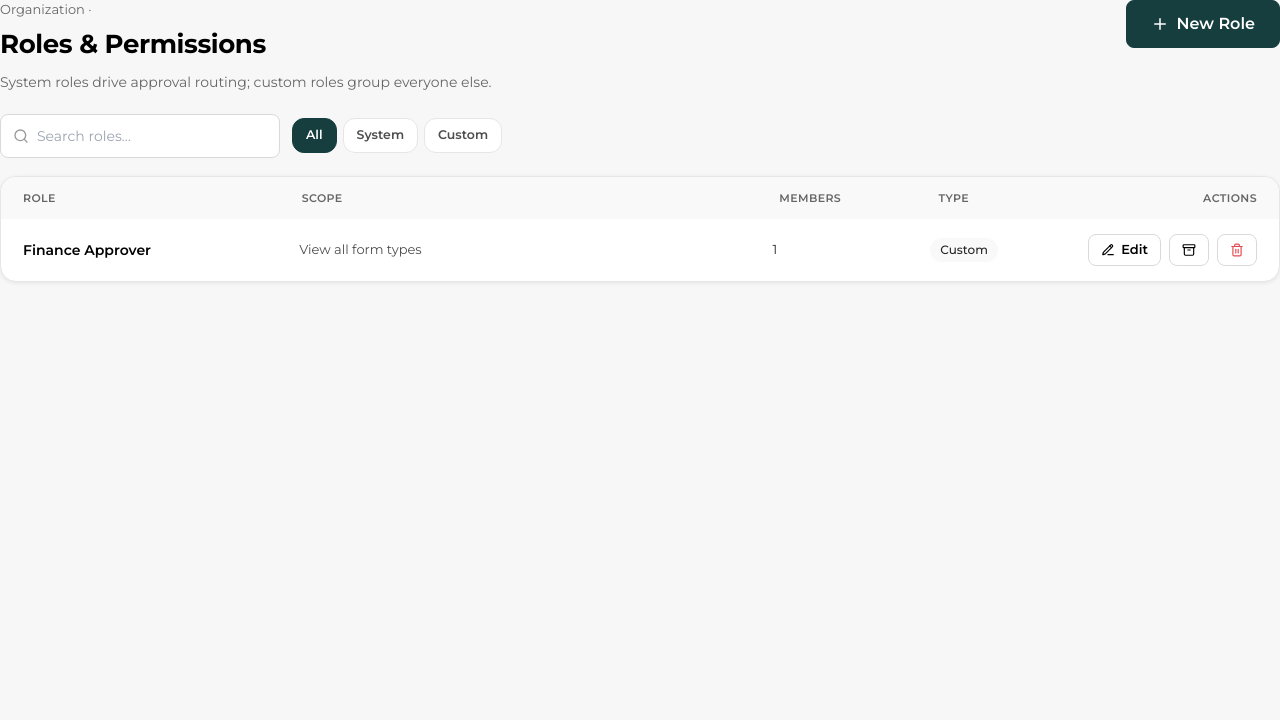
deleting a role still in use surfaces the reason and keeps the dialog open
Expected: the text "Finance Approver" is shown, [23,241,151,259]
Click the button named "Delete Finance Approver": (1237,250) [1217,234,1257,266]
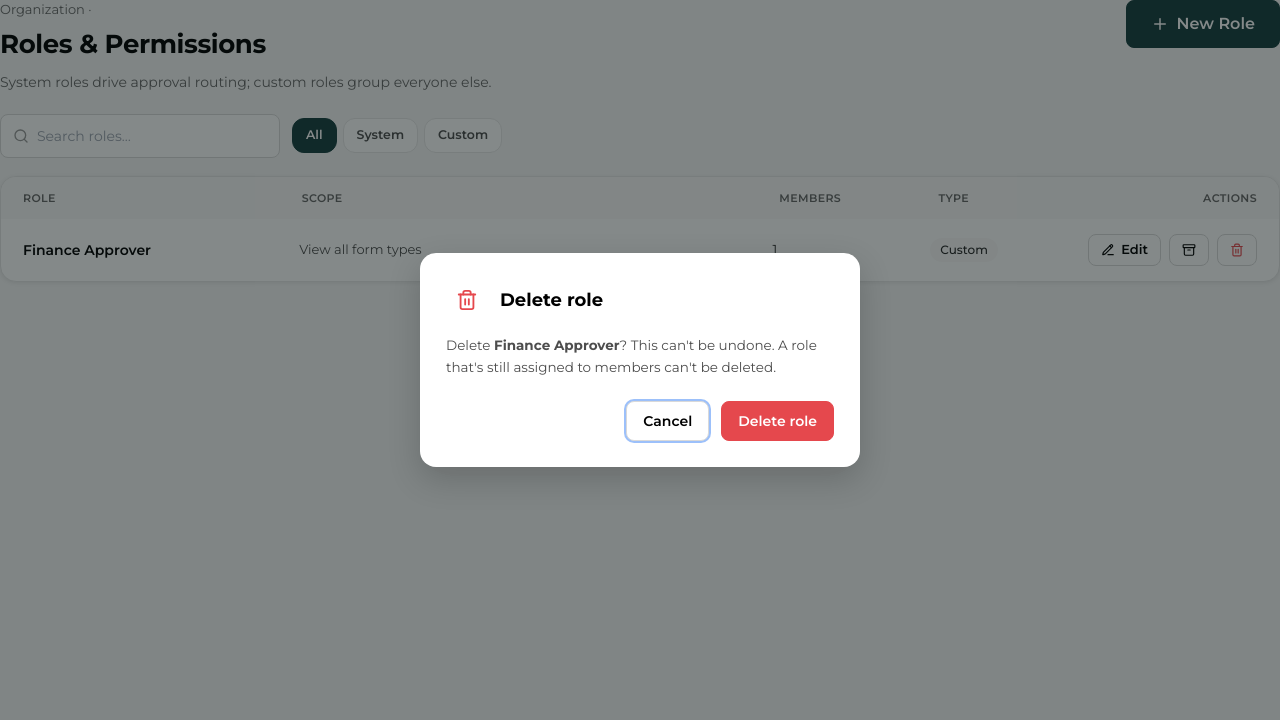
Click the button "Delete role": (778,421) [721,401,834,441]
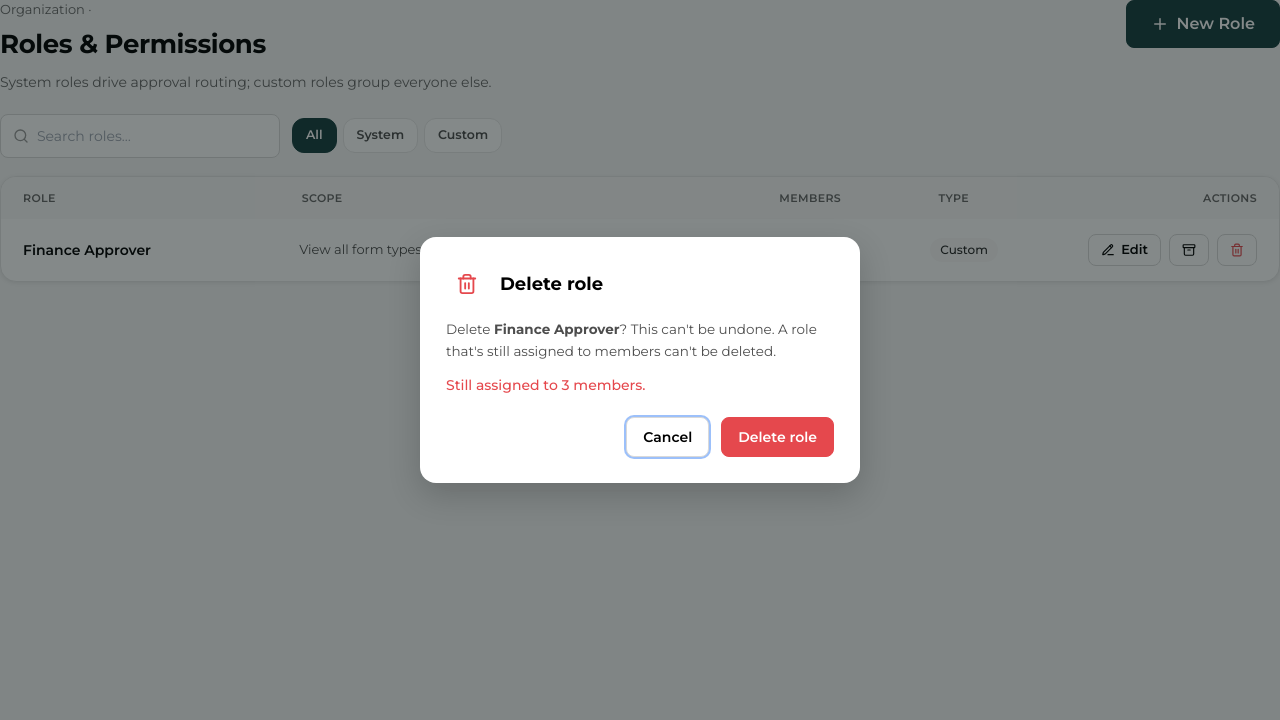
Expected: the dialog is shown, [420,237,860,483]
Expected: the text "Still assigned to 3 members." is shown, [446,376,646,394]
